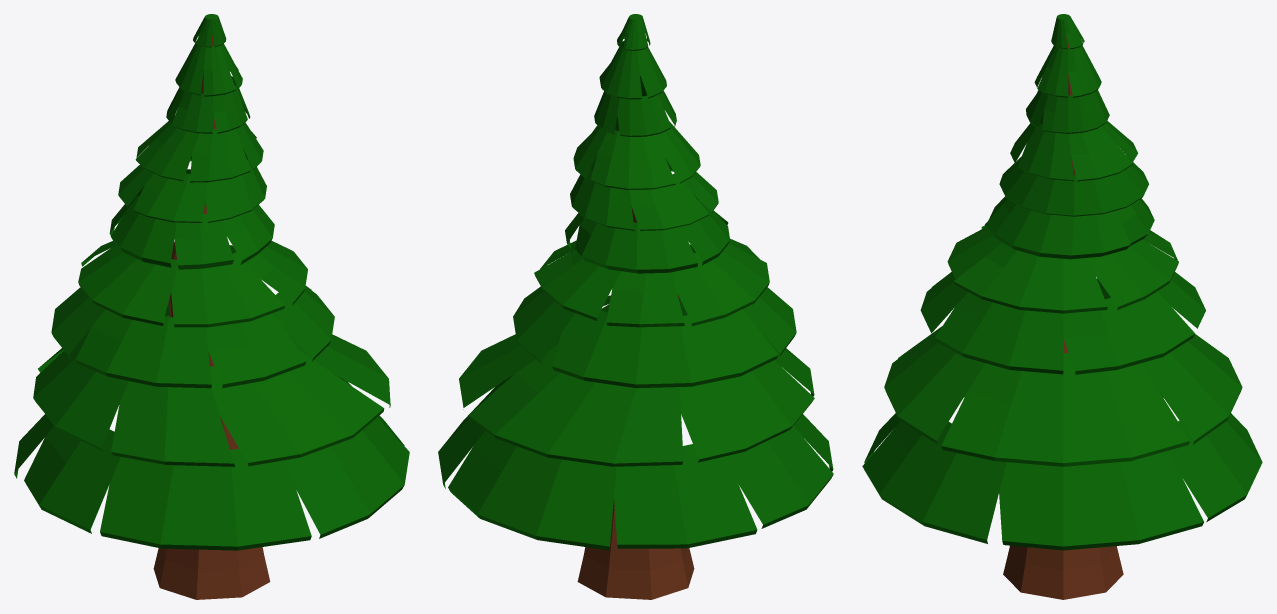
File: Tree.fbx
3 renders of one model, left to right at view 1: azimuth 30°, elevation 25°; view 2: azimuth 150°, elevation 25°; view 3: azimuth 270°, elevation 25°, orthographic.
Visible parts, largest first — view 1: Pine Tree 1; view 2: Pine Tree 1; view 3: Pine Tree 1.
Boxes of the visible parts, x1=… form: Pine Tree 1: x1=14, y1=14, x2=409, y2=599; Pine Tree 1: x1=438, y1=14, x2=833, y2=599; Pine Tree 1: x1=862, y1=14, x2=1262, y2=599.
Size of the model in its own units: 661 by 1020 by 664.
